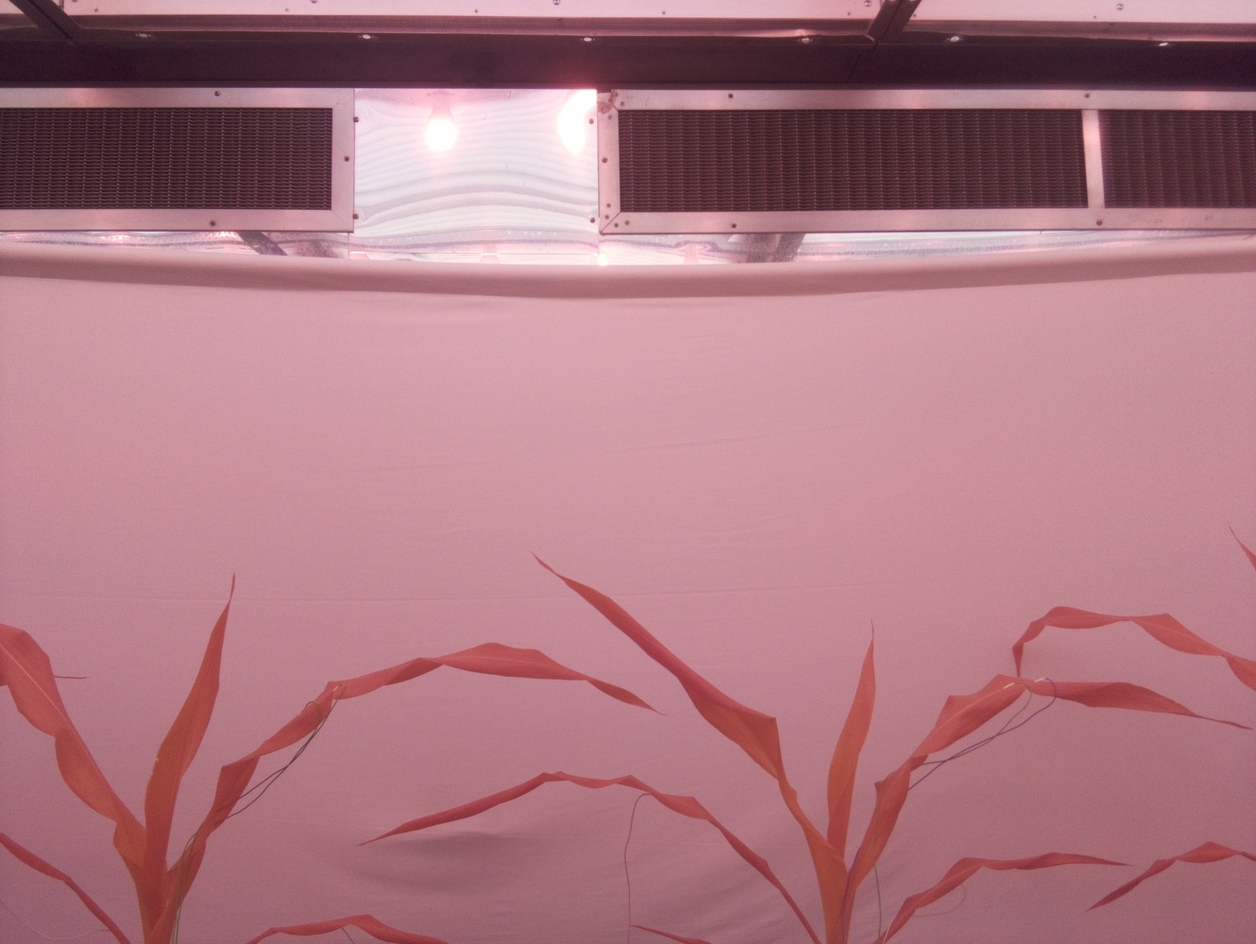maize: (356, 546, 1254, 944), (0, 572, 664, 944)
